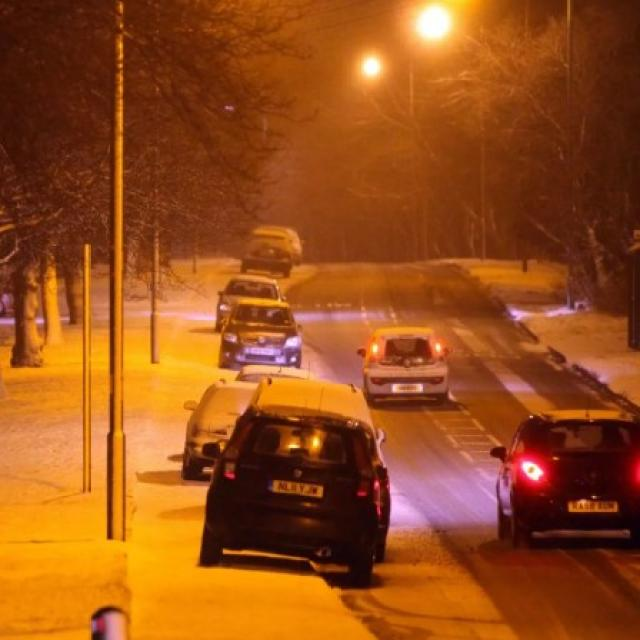car: (203, 398, 382, 586), (493, 407, 640, 540), (360, 327, 452, 402), (220, 298, 302, 372), (240, 231, 294, 277)
